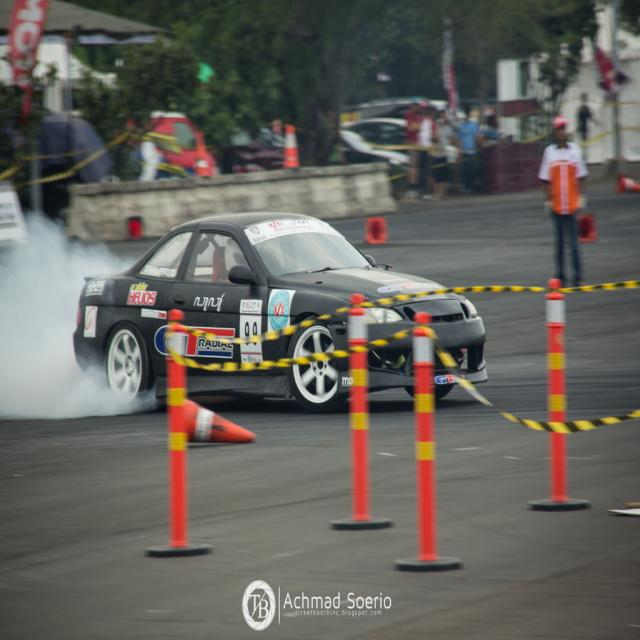car: (72, 210, 486, 410)
